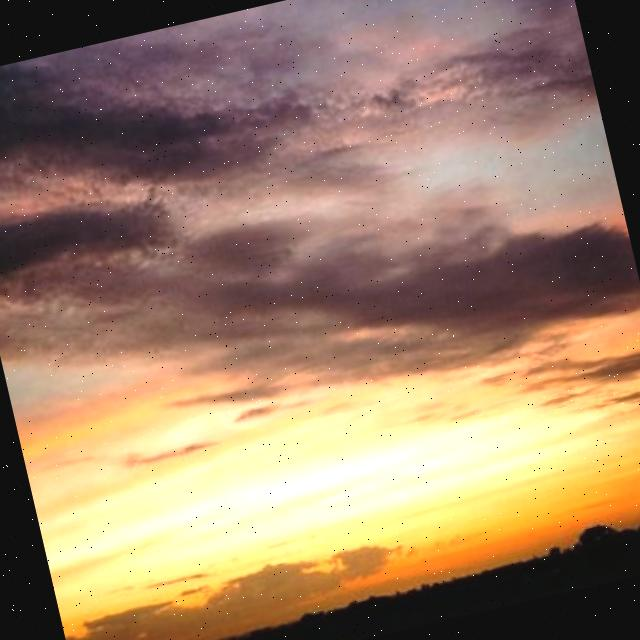Cs: (1, 1, 640, 608)
